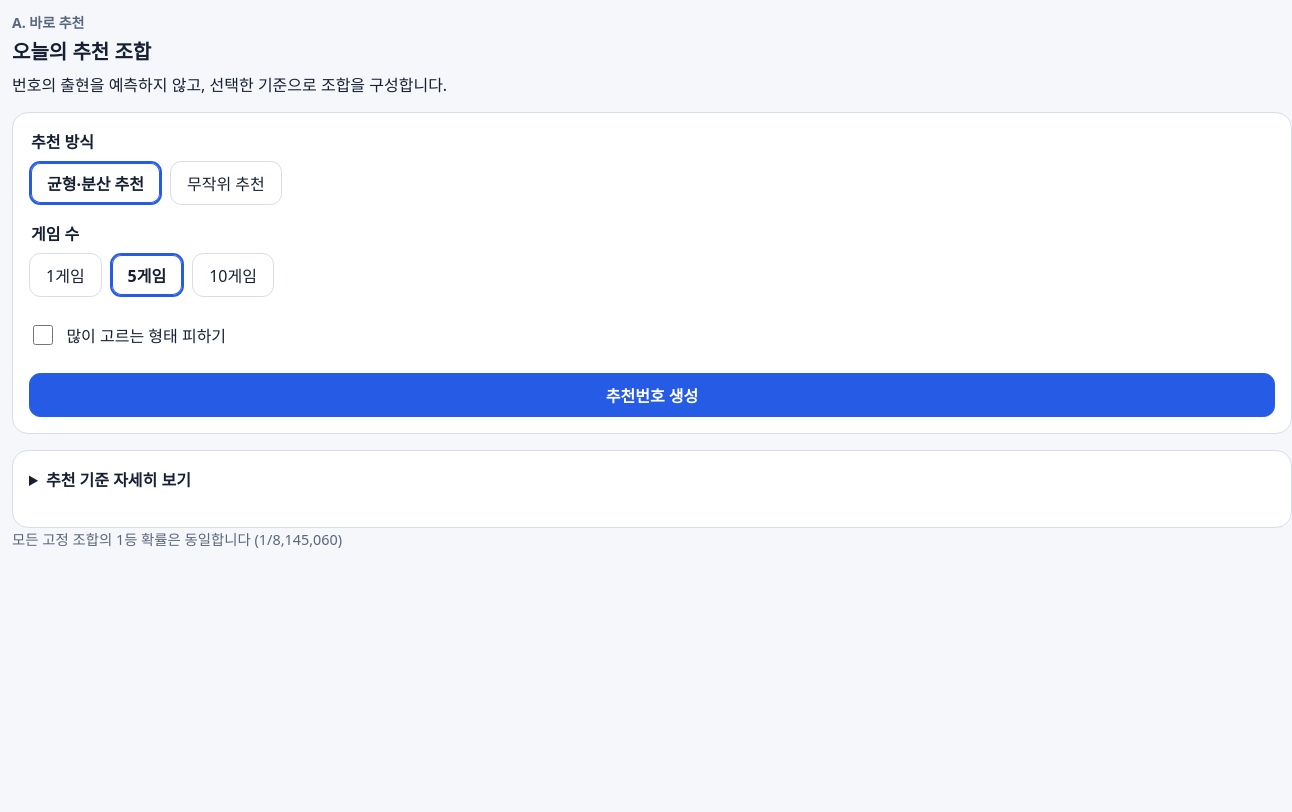
keeps the exact disclosure visible when secure random generation is unavailable
Click the button "무작위 추천" at x=226, y=183, box [170,161,282,205]
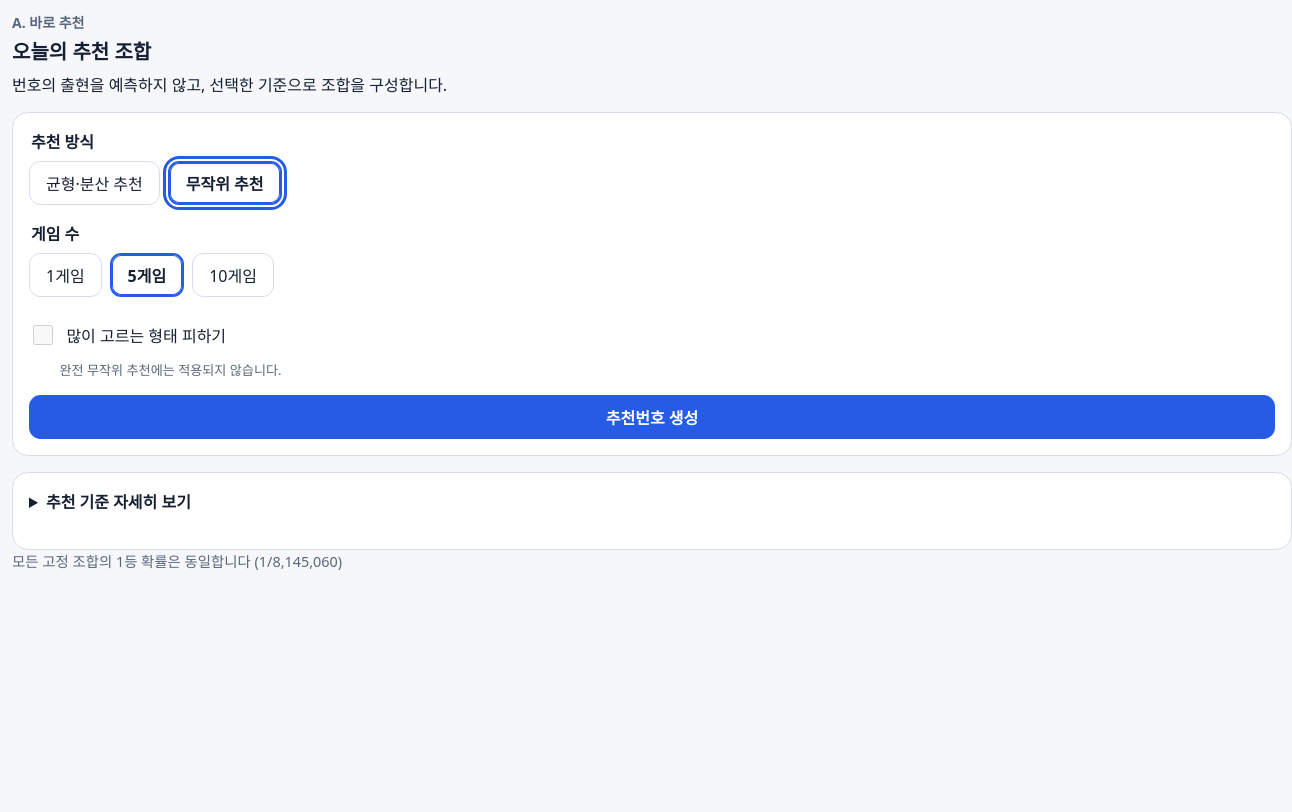
Click the button "추천번호 생성" at x=652, y=417, box [29,395,1275,439]
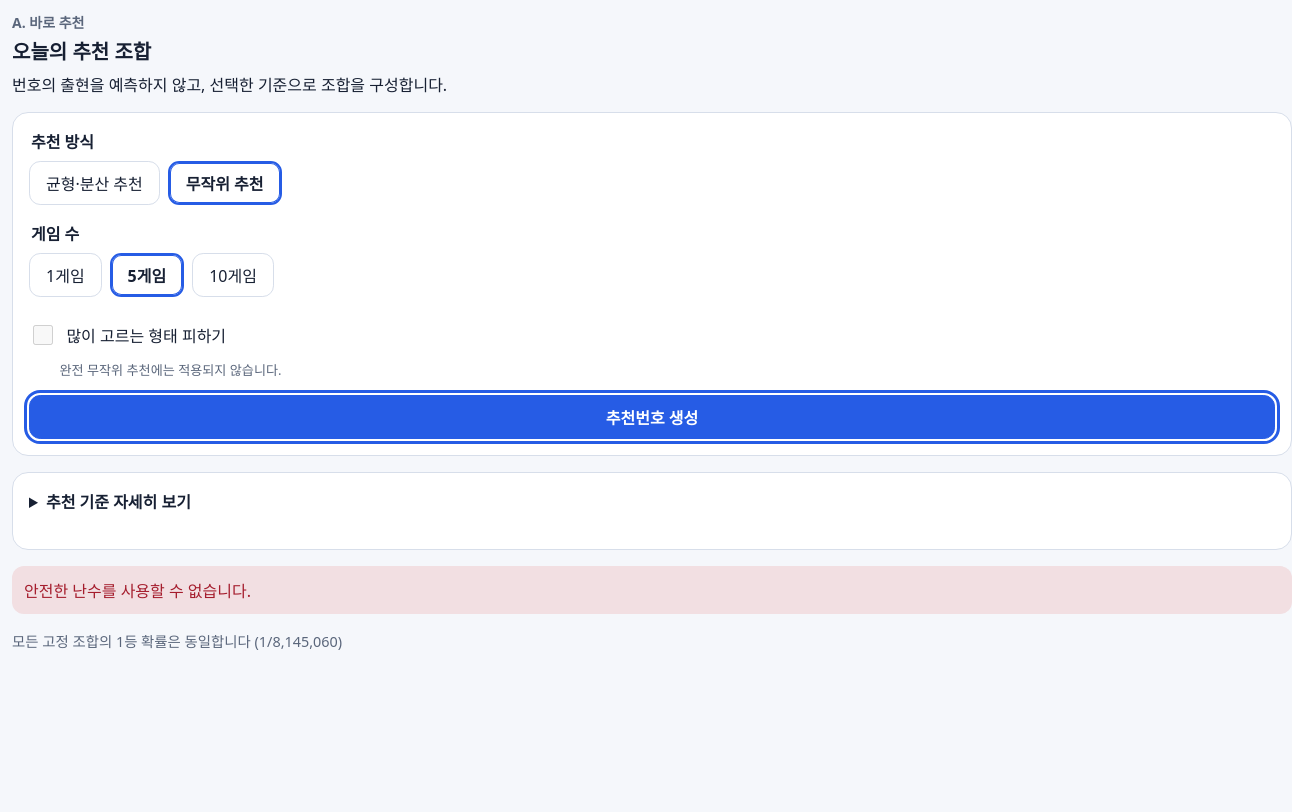
Expected: the text "모든 고정 조합의 1등 확률은 동일합니다 (1/8,145,060)" is shown, [12,632,342,651]
Expected: the message reads "안전한 난수를 사용할 수 없습니다.", [24,580,251,602]
